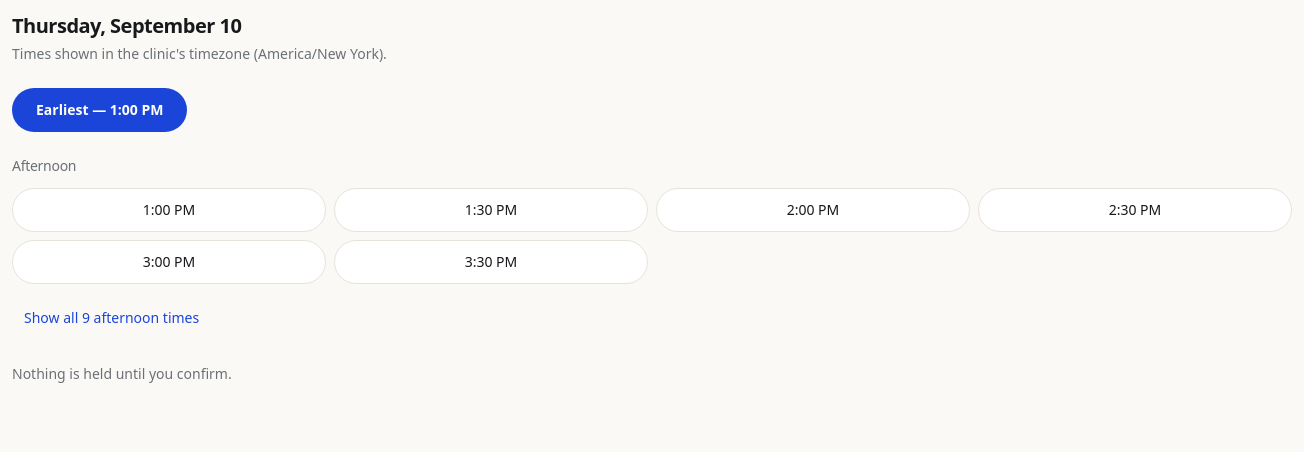
Test: the collapsed groups › tells a screen reader the list grew, rather than only redrawing it
This screenshot has width=1304, height=452.
Click the button "Show all 9 afternoon times": (112, 318) [12,296,211,340]
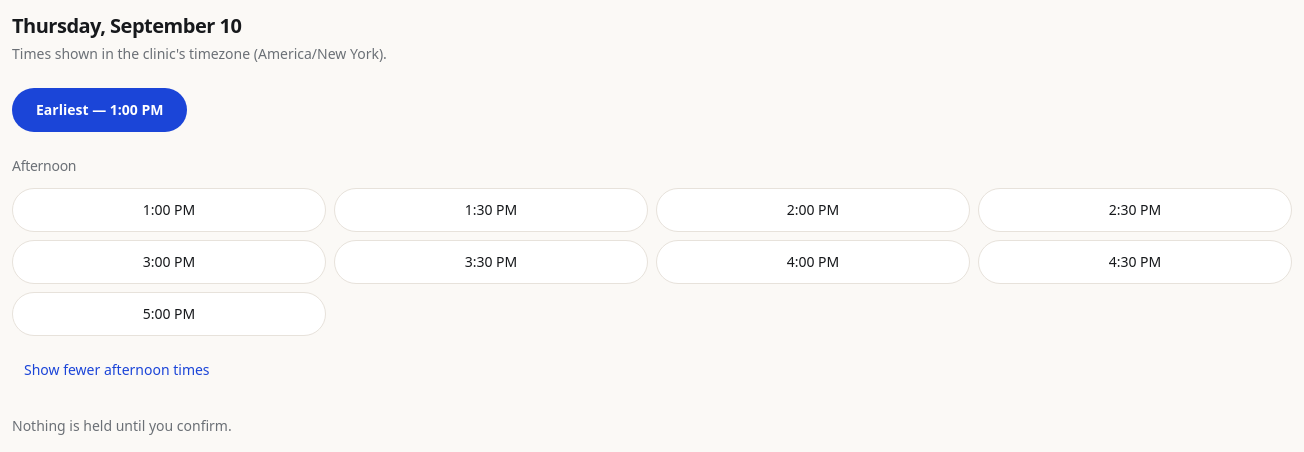
Expected: the button "Show fewer afternoon times" is expanded, [12,348,222,392]
